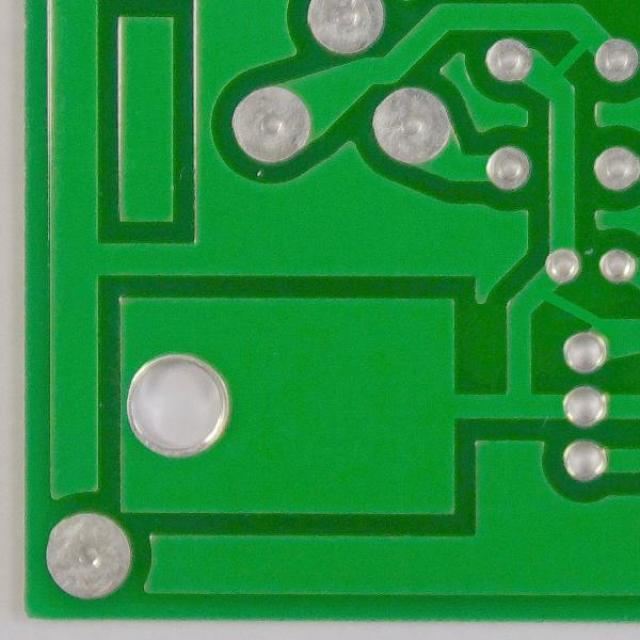Short_Circuit: (527, 277, 614, 336), (538, 27, 597, 97)
